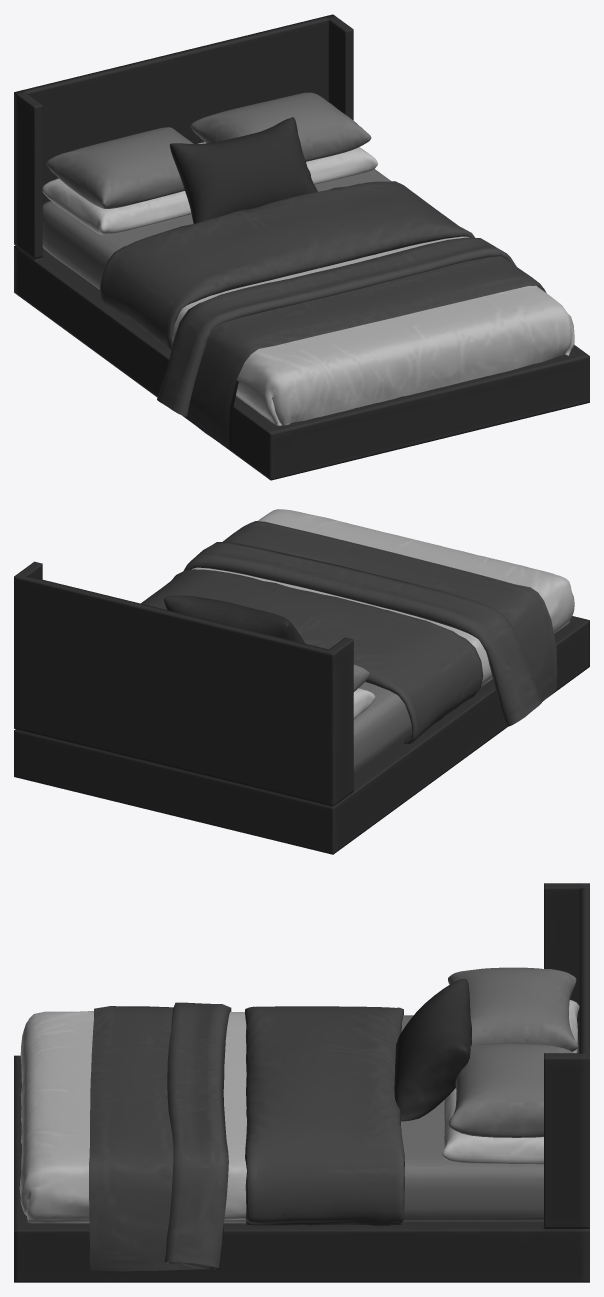
File: bed.glb
3 renders of one model, top to bottom at view 1: azimuth 30°, elevation 25°; view 2: azimuth 150°, elevation 25°; view 3: azimuth 270°, elevation 25°, orthographic. The views are drawn at different scales.
Visible parts, largest first — view 1: bed_dark_q; view 2: bed_dark_q; view 3: bed_dark_q.
Boxes of the visible parts, <box> form: bed_dark_q: <box>14,14,589,480</box>; bed_dark_q: <box>14,509,589,854</box>; bed_dark_q: <box>14,883,589,1282</box>.
Bounding box in the file's own units: 1.65 × 0.858 × 1.99.
1 material, 1 textured.
